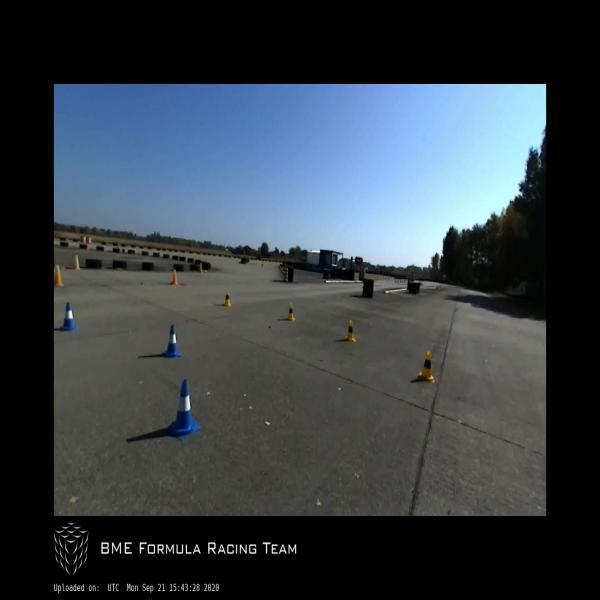blue_cone: (168, 379, 201, 442), (162, 324, 181, 358), (58, 302, 78, 332)
yellow_cone: (417, 351, 435, 383), (344, 320, 356, 342), (286, 302, 296, 322), (223, 290, 231, 308)
